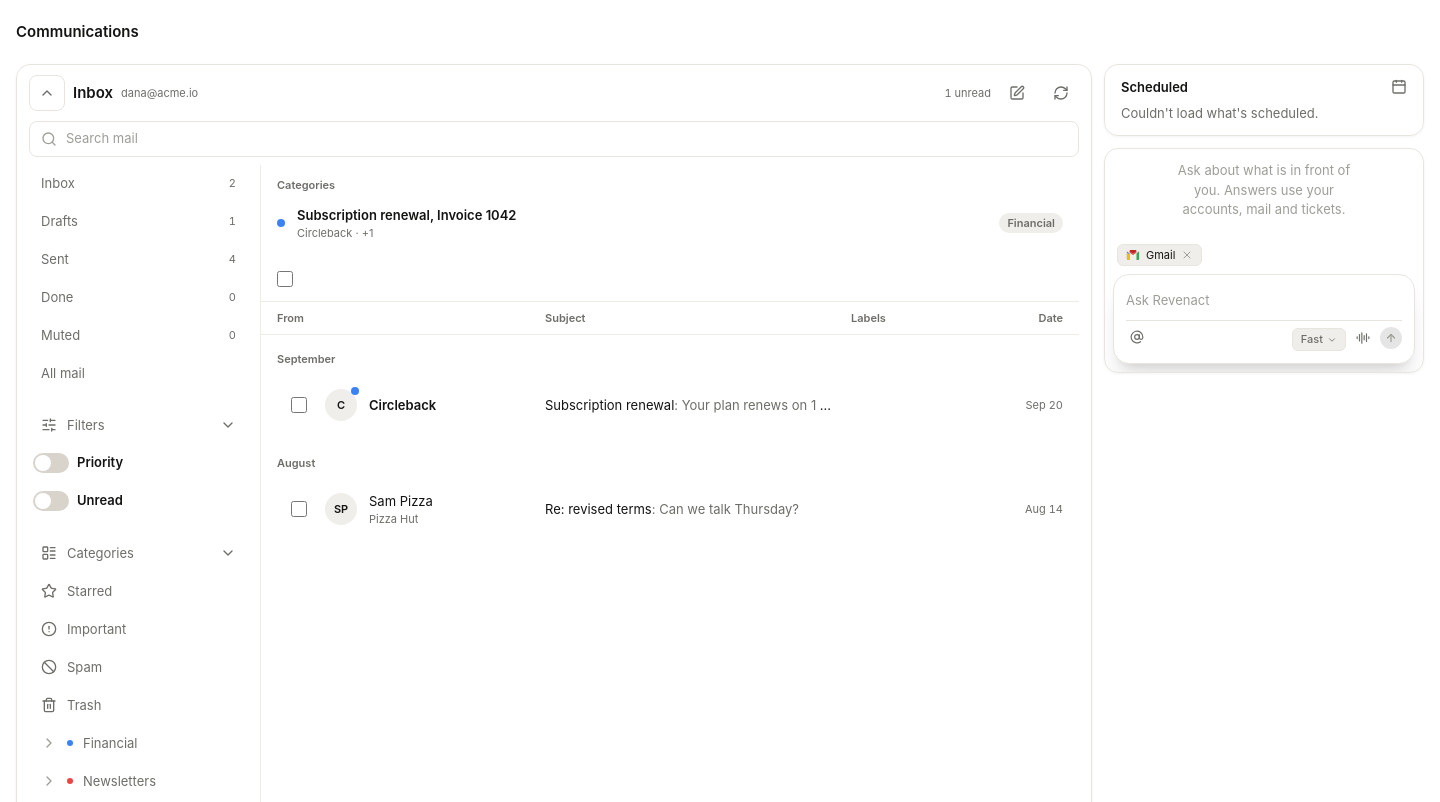
Test: MailboxView › never shows the last message under a new one after a filter change
Expected: the element "September" is shown, [261, 335, 1079, 439]
Click the button "Circleback" at (451, 405), box [369, 395, 533, 415]
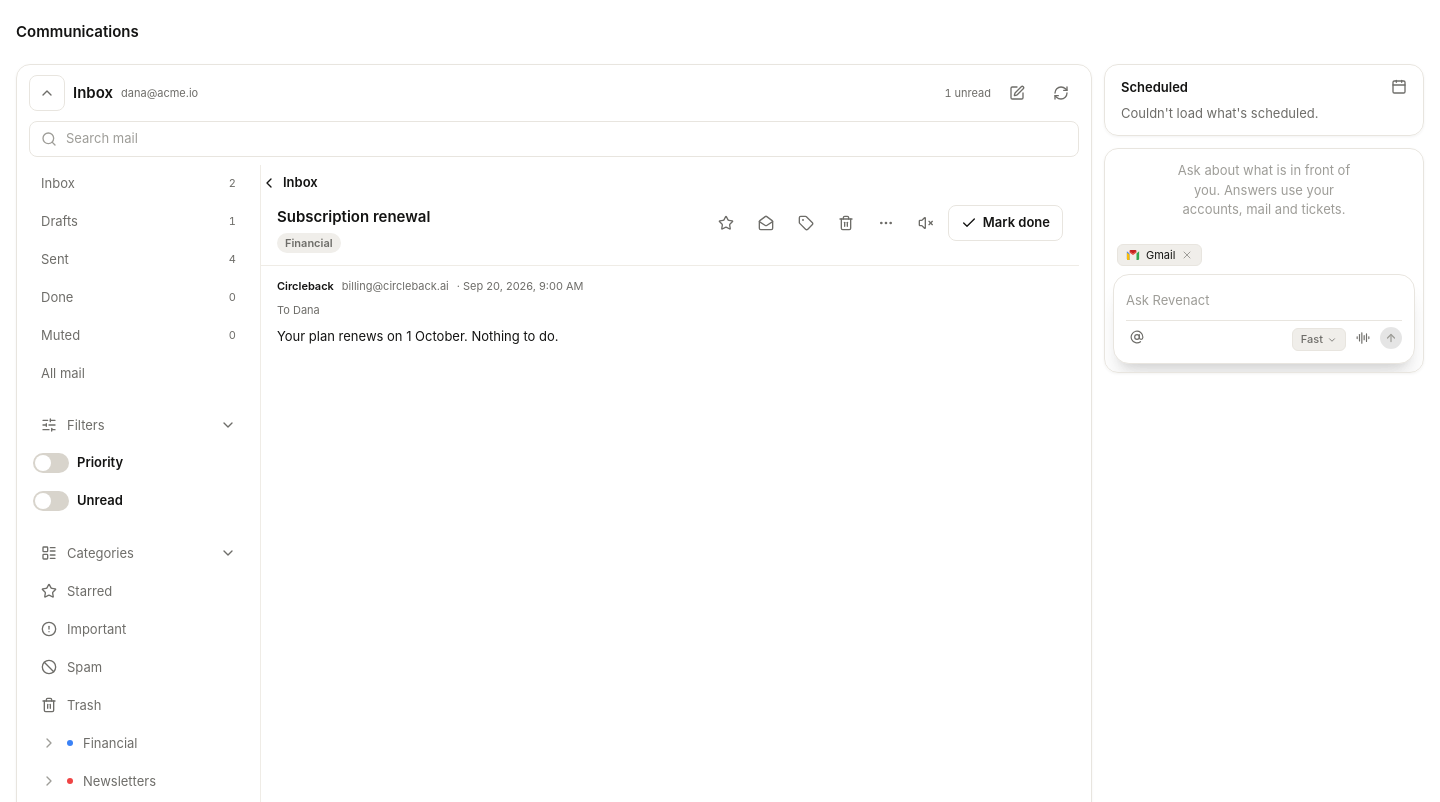
Expected: the text "Your plan renews on 1 October. Nothing to do." is shown, [277, 328, 558, 344]
Click the switch labelled "Unread" at (78, 501), box [29, 483, 127, 519]
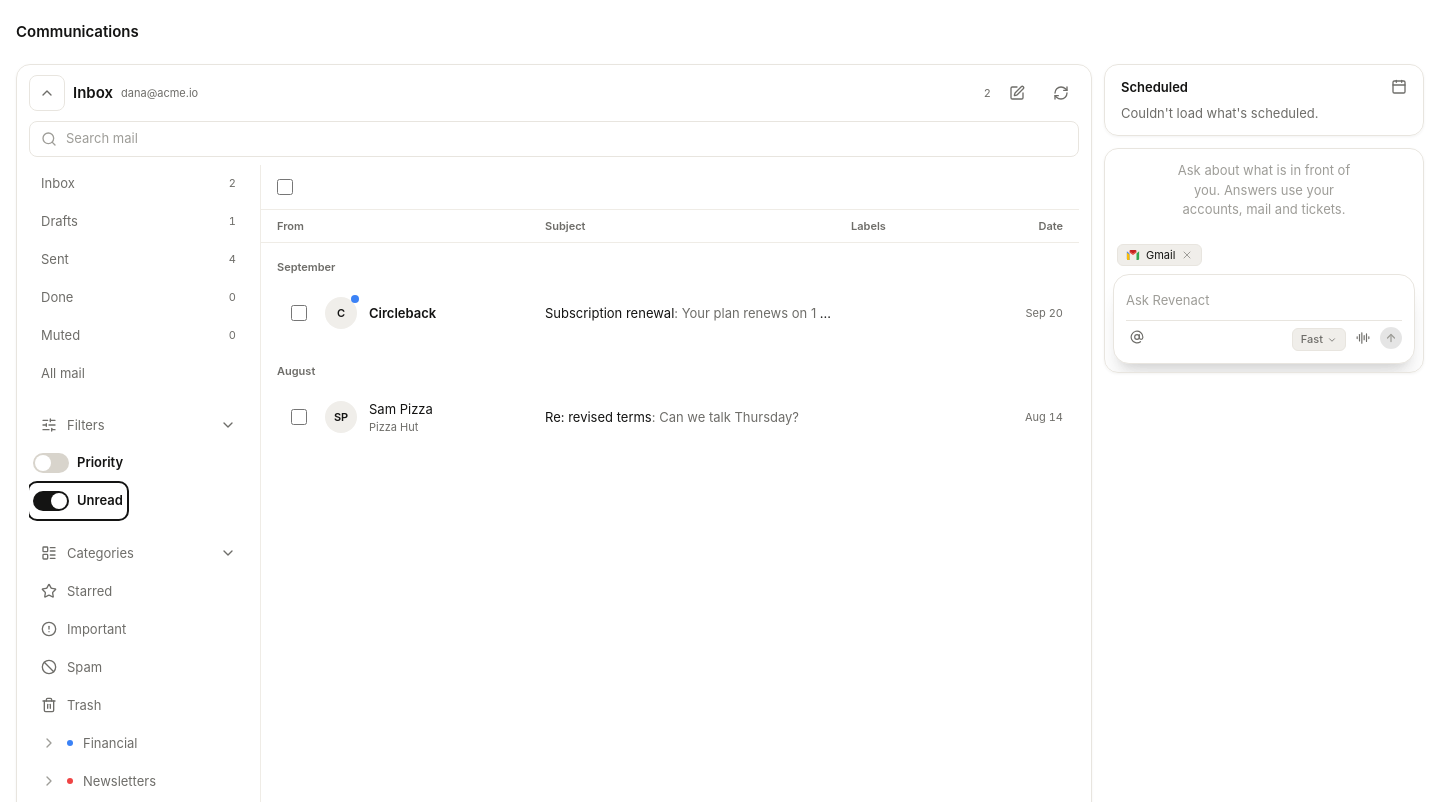
Click the button "Sam Pizza" at (451, 409), box [369, 399, 533, 419]
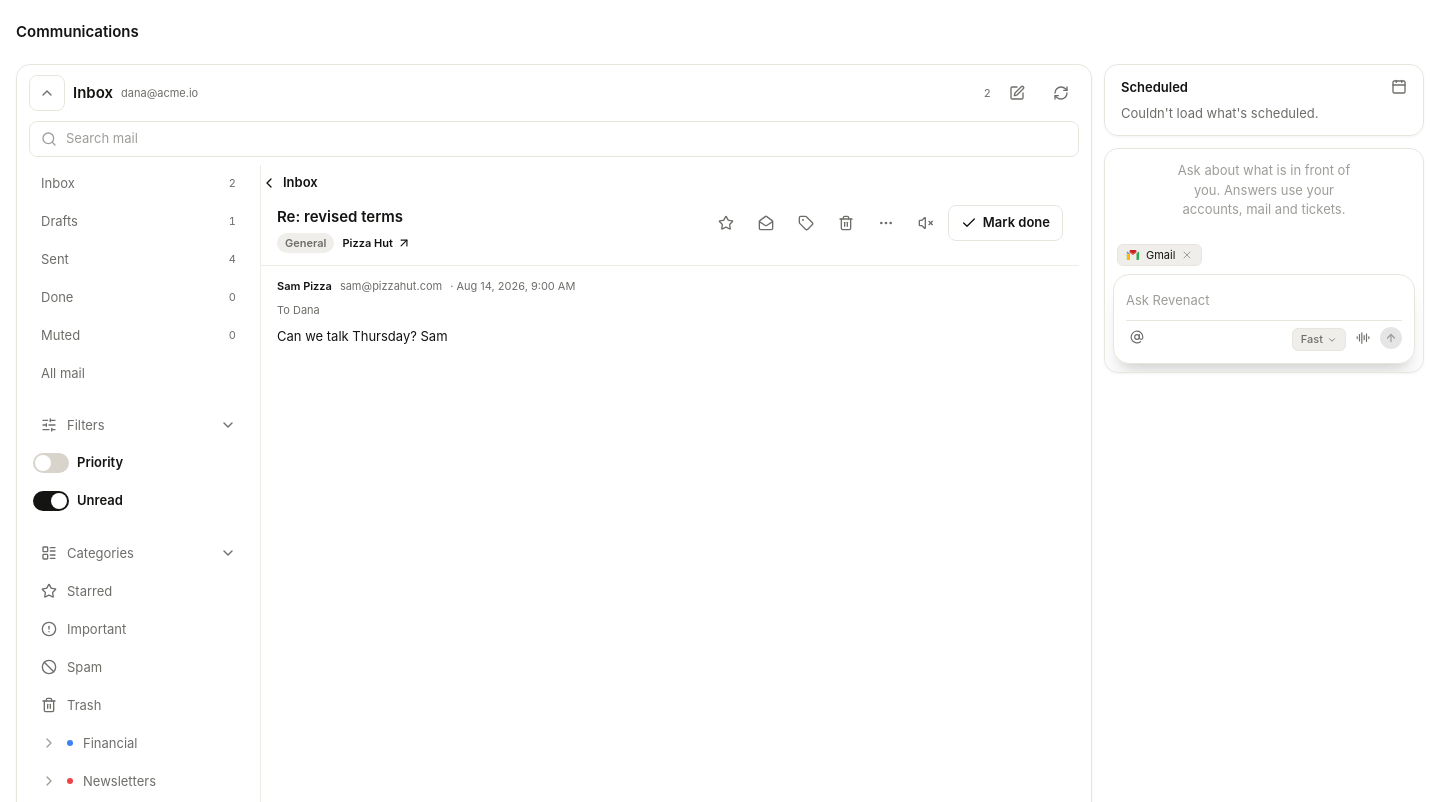
Expected: the text "Your plan renews on 1 October. Nothing to do." is not shown
Expected: the text "Can we talk Thursday? Sam" is shown, [277, 328, 448, 344]
